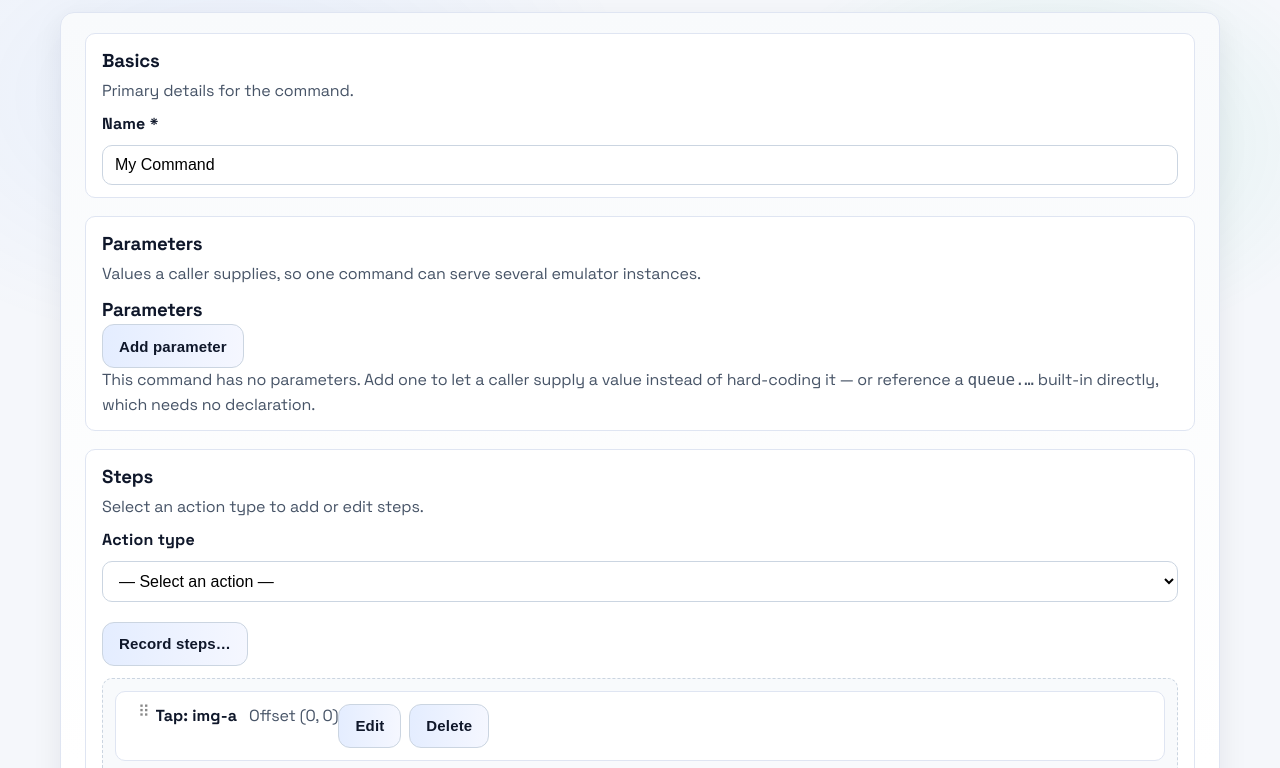
Test: CommandForm — US1: selector and scaffolding › switching action type resets editingStepId so no old initialValue leaks
The width and height of the screenshot is (1280, 768).
Open Tap panel in edit mode for tapStep
Click the button "Edit" at point(370, 726), box [338,704,401,748]
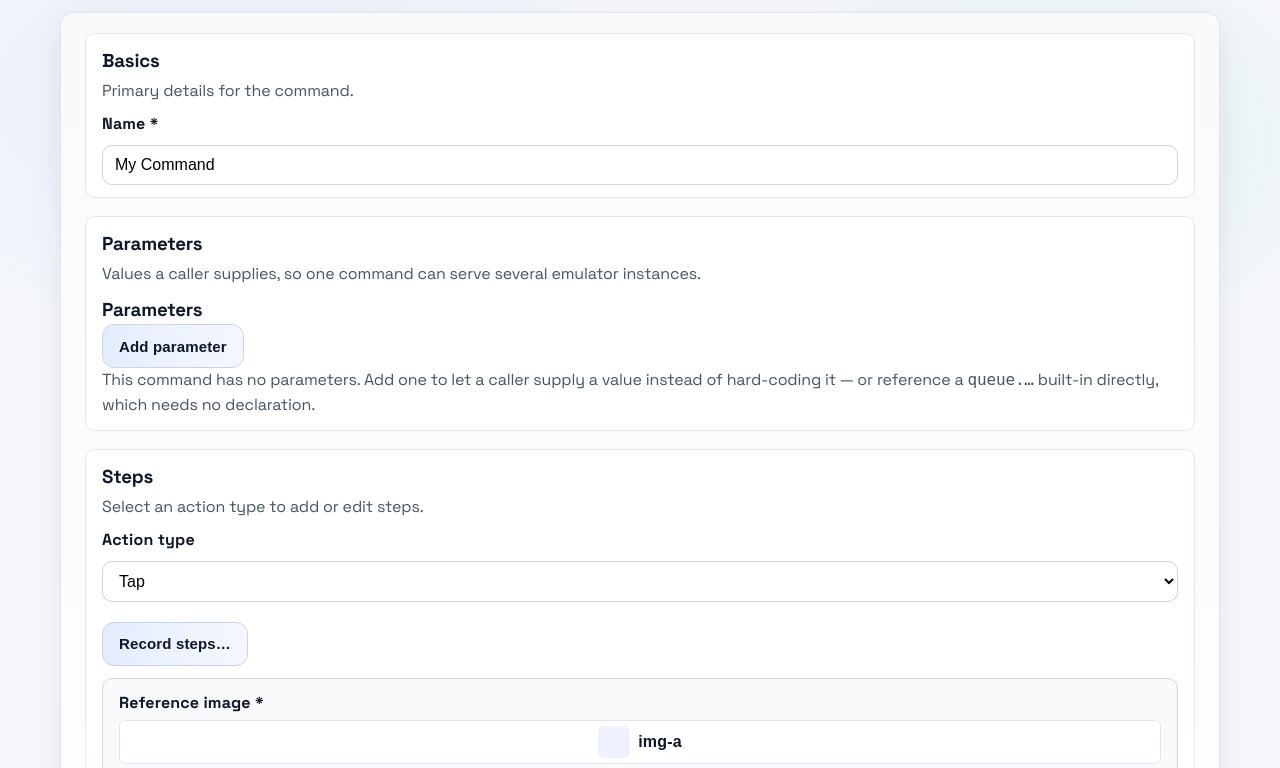
Result: the dropdown labelled "Action type" shows "Tap"
Switch to WaitForImage → should show empty panel (no pre-filled timeout from tapStep)
Select "Wait for Image" in the dropdown labelled "Action type" at point(640, 581), box [102,561,1178,602]
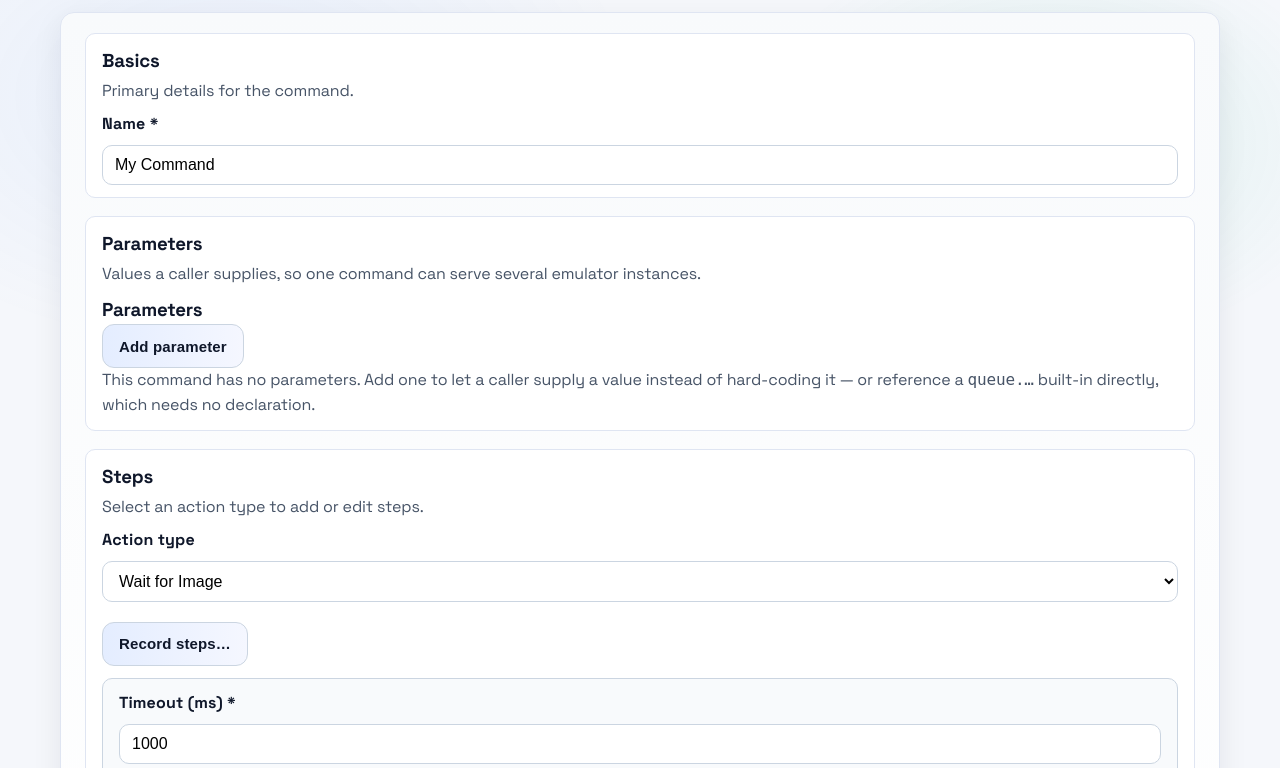
Result: the number field labelled "Timeout (ms) *" holds "1000" at [119,724,1161,764]
